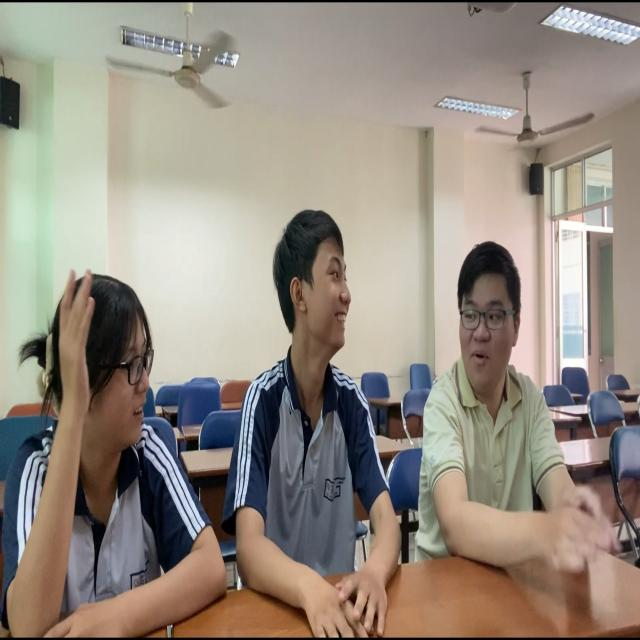raise_hand: (1, 271, 224, 640)
